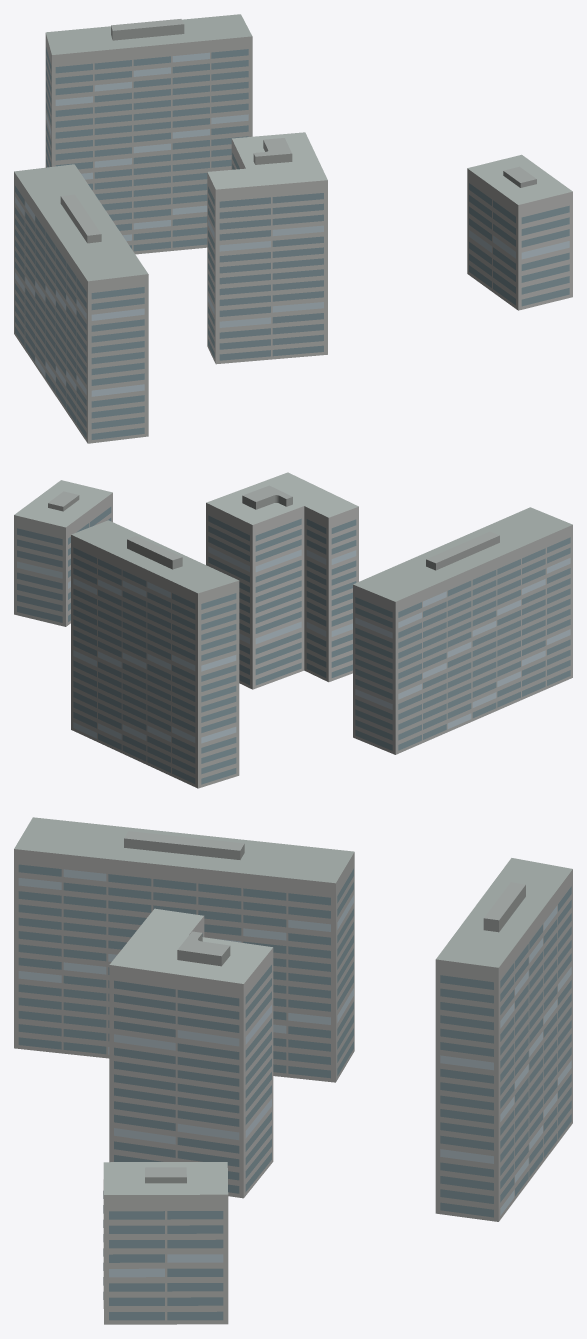
Rendered from apt-a13983803.glb.
The picture shows the model from 3 angles, top to bottom: view 1: azimuth 30°, elevation 25°; view 2: azimuth 150°, elevation 25°; view 3: azimuth 270°, elevation 25°; orthographic projection. The views are drawn at different scales.
Visible parts, largest first — view 1: apt-a13983803; view 2: apt-a13983803; view 3: apt-a13983803.
Boxes of the visible parts, x1,y1,x2,y2 form: apt-a13983803: (14,14,572,443); apt-a13983803: (14,472,572,788); apt-a13983803: (14,817,572,1324).
Bounding box in the file's own units: 127 × 51 × 97.06.
